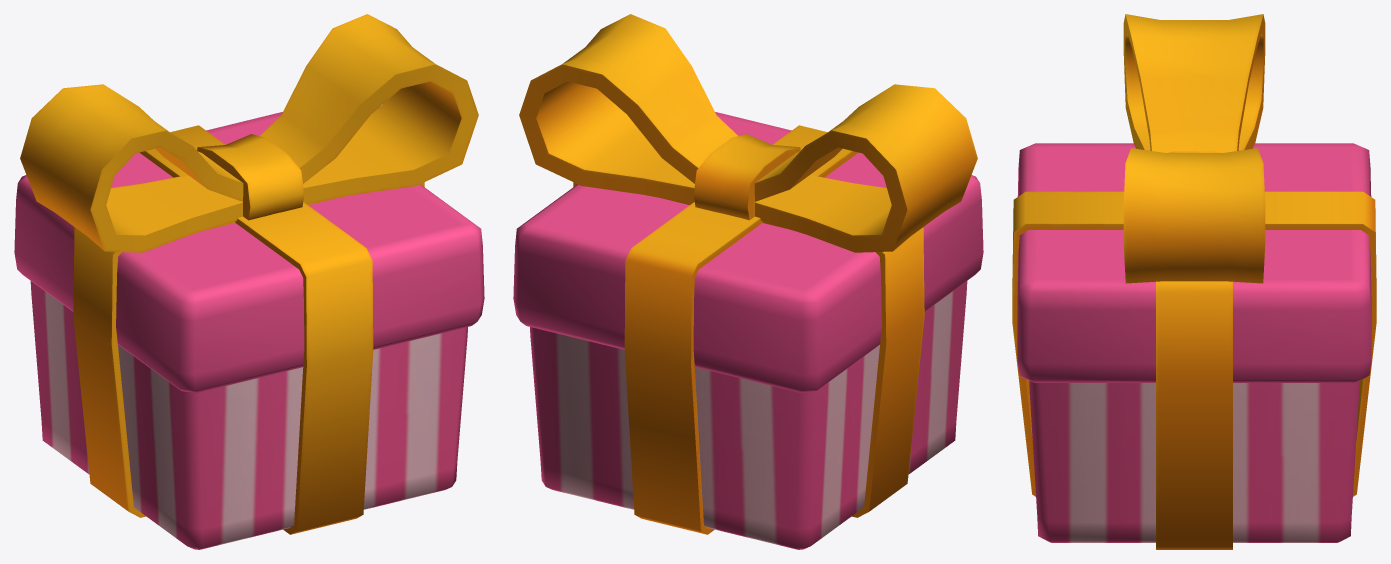
3 views of the same model, side by side, from view 1: azimuth 30°, elevation 25°; view 2: azimuth 150°, elevation 25°; view 3: azimuth 270°, elevation 25° (orthographic).
Parts seen in each view (by area): view 1: Gift; view 2: Gift; view 3: Gift.
Part boxes in pixels (x1,y1,x2,y2): Gift: (14,14,484,549); Gift: (513,14,983,549); Gift: (1012,14,1376,549).
Size of the model in its own units: 32.81 by 31.99 by 26.51.
Materials: 1 (1 with a texture image).
